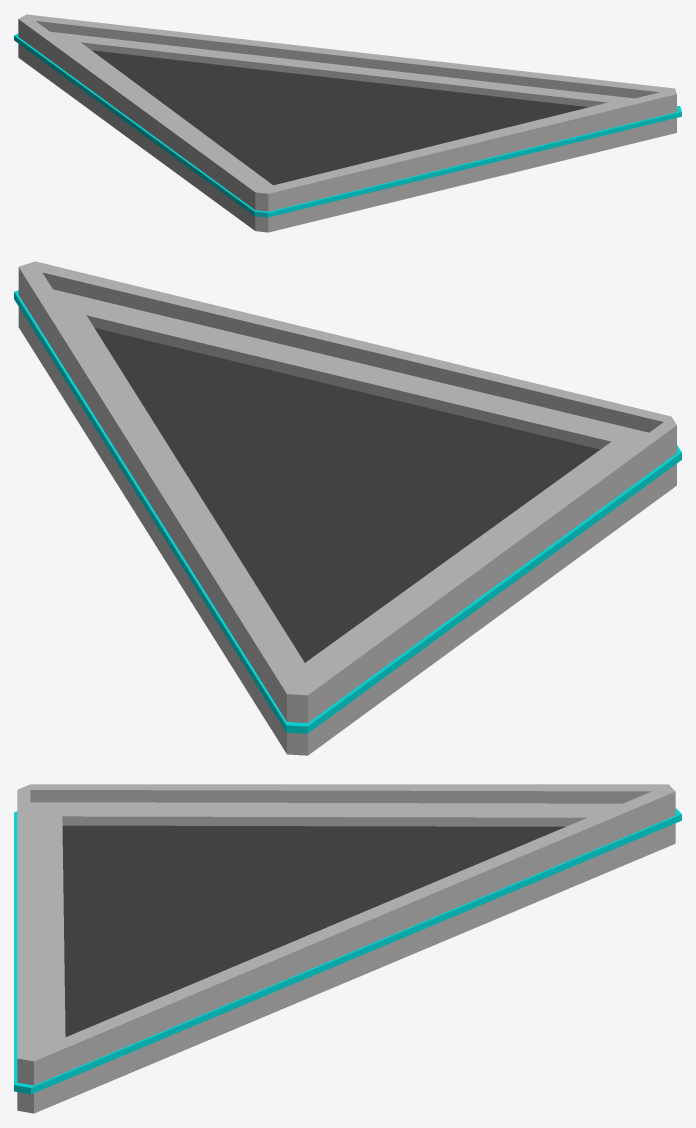
File: MSH_TriangularNeon.fbx
3 renders of one model, top to bottom at view 1: azimuth 30°, elevation 25°; view 2: azimuth 150°, elevation 25°; view 3: azimuth 270°, elevation 25°, orthographic. The views are drawn at different scales.
Parts seen in each view (by area): view 1: polySurface5; view 2: polySurface5; view 3: polySurface5.
Boxes of the visible parts, x1,y1,x2,y2 form: polySurface5: [14, 14, 681, 232]; polySurface5: [14, 261, 681, 755]; polySurface5: [14, 784, 681, 1113].
Size of the model in its own units: 8.87 by 0.7686 by 8.91.
